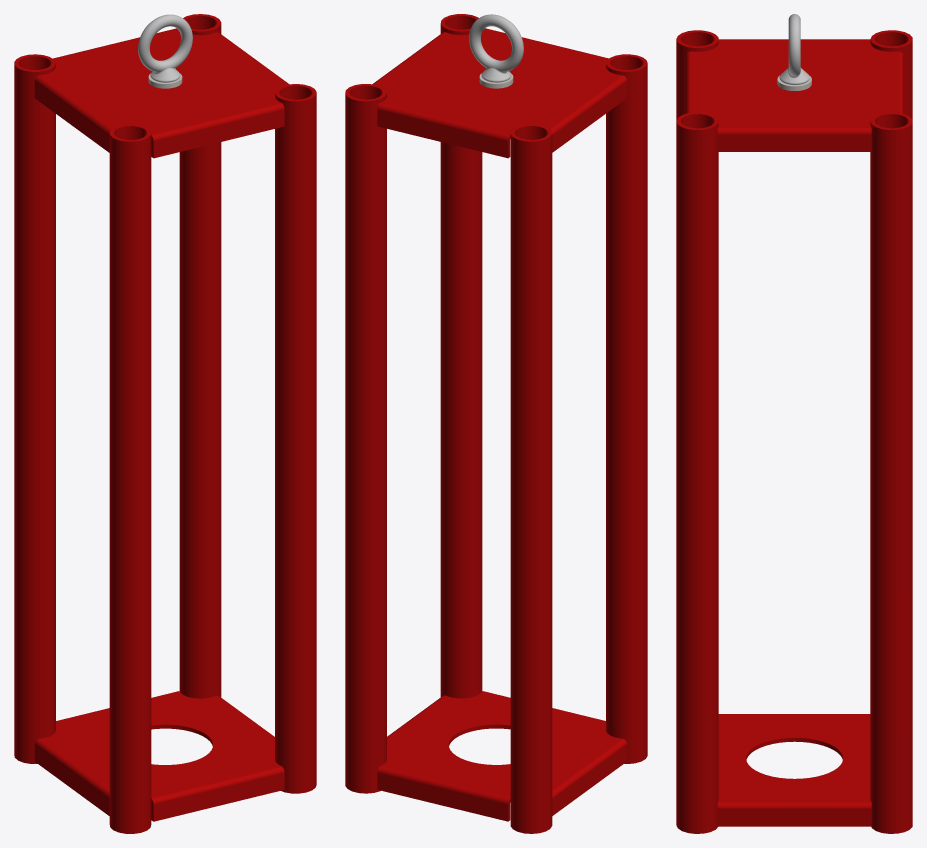
File: GE-25231-Red.fbx
3 views of the same model, side by side, from view 1: azimuth 30°, elevation 25°; view 2: azimuth 150°, elevation 25°; view 3: azimuth 270°, elevation 25° (orthographic).
Visible parts, largest first — view 1: Solid1.007, Solid1.005, Solid1.008, Solid1.006, Solid1.004, Solid1.003, Solid1; view 2: Solid1.008, Solid1.006, Solid1.007, Solid1.005, Solid1.004, Solid1.003, Solid1; view 3: Solid1.005, Solid1.006, Solid1.004, Solid1.003, Solid1.007, Solid1.008, Solid1.
Part boxes in pixels (<box>): Solid1.007: <box>109,124,151,833</box>; Solid1.005: <box>275,84,316,793</box>; Solid1.008: <box>14,54,55,763</box>; Solid1.006: <box>179,14,221,698</box>; Solid1.004: <box>34,28,288,158</box>; Solid1.003: <box>34,691,284,821</box>; Solid1: <box>138,14,192,82</box>; Solid1.008: <box>510,124,552,833</box>; Solid1.006: <box>345,84,386,793</box>; Solid1.007: <box>606,54,647,763</box>; Solid1.005: <box>440,14,482,698</box>; Solid1.004: <box>372,28,627,158</box>; Solid1.003: <box>377,691,627,821</box>; Solid1: <box>469,14,523,82</box>; Solid1.005: <box>676,112,718,833</box>; Solid1.006: <box>870,112,912,833</box>; Solid1.004: <box>685,39,903,151</box>; Solid1.003: <box>717,714,871,826</box>; Solid1.007: <box>676,30,718,120</box>; Solid1.008: <box>870,30,912,118</box>; Solid1: <box>779,14,809,84</box>.
Size of the model in its own units: 18.57 by 66.44 by 18.55.
